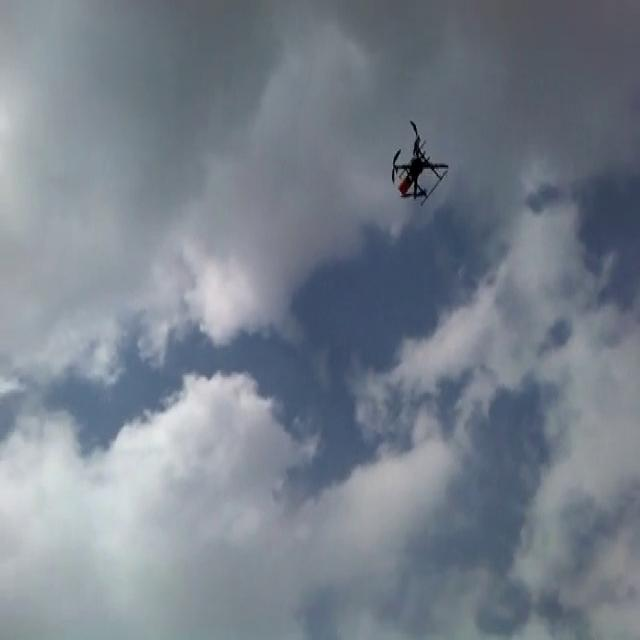drone: (387, 116, 449, 208)
